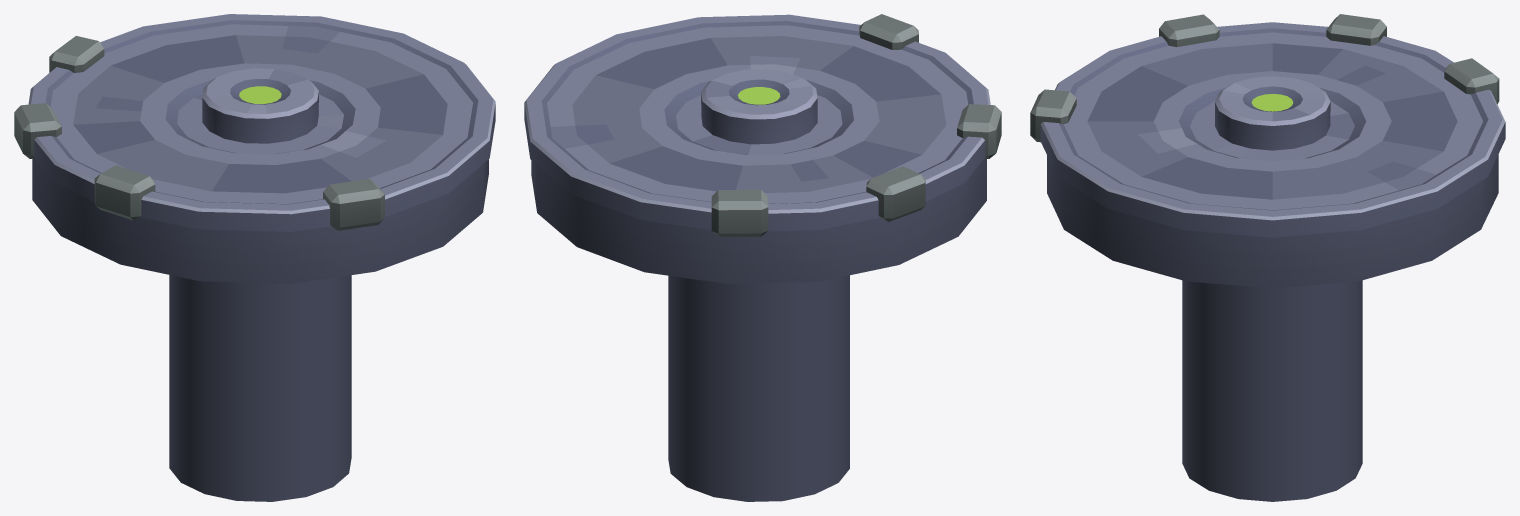
File: factory-tank.obj
3 renders of one model, left to right at view 1: azimuth 30°, elevation 25°; view 2: azimuth 150°, elevation 25°; view 3: azimuth 270°, elevation 25°, orthographic.
Visible parts, largest first — view 1: factory-tank; view 2: factory-tank; view 3: factory-tank.
Part boxes in pixels (x1,y1,x2,y2): factory-tank: [14, 14, 495, 501]; factory-tank: [524, 14, 1001, 501]; factory-tank: [1030, 14, 1505, 501].
Size of the model in its own units: 28.15 by 24.33 by 28.7.
1 material, 1 textured.
